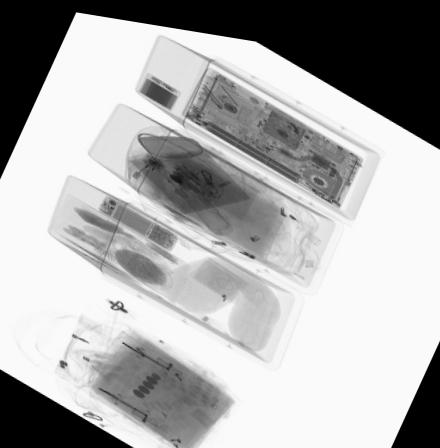Powerbank: (135, 68, 180, 107)
